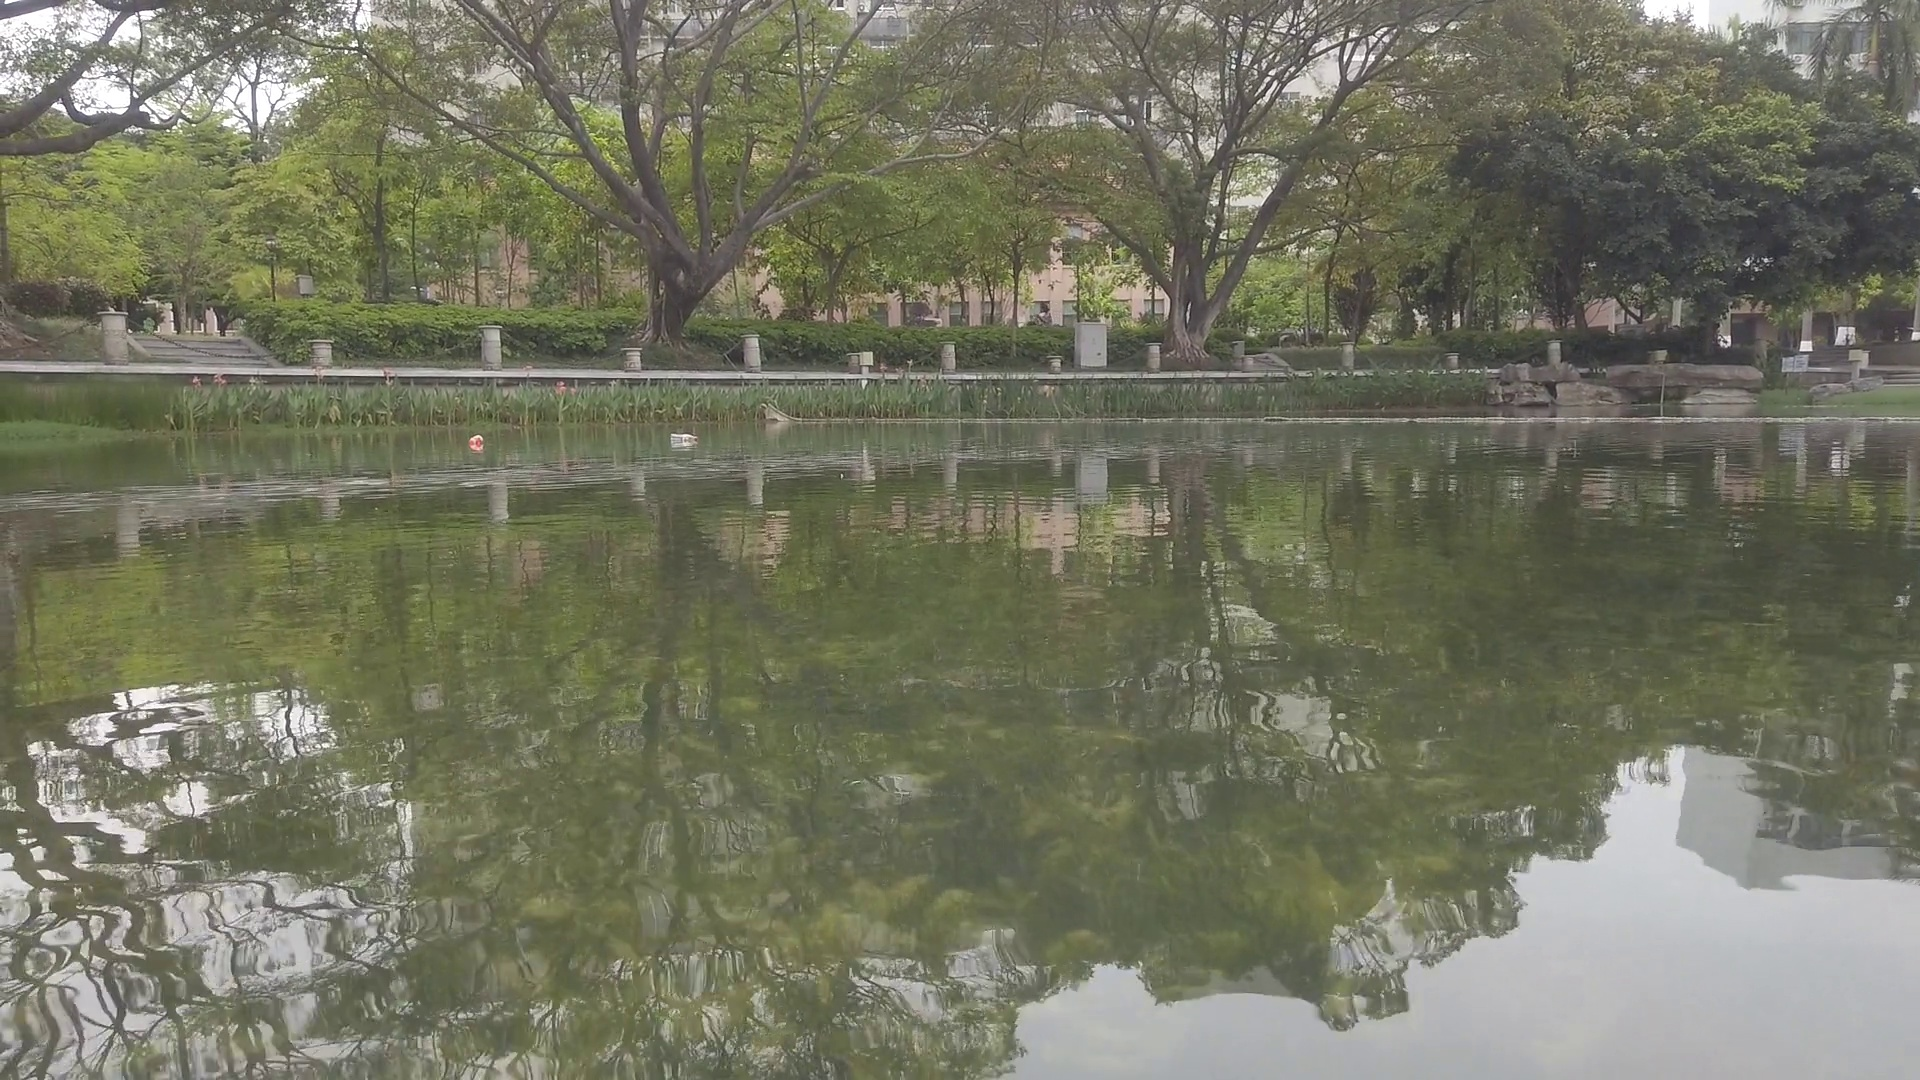bottle: (670, 431, 698, 442), (469, 434, 485, 450)
